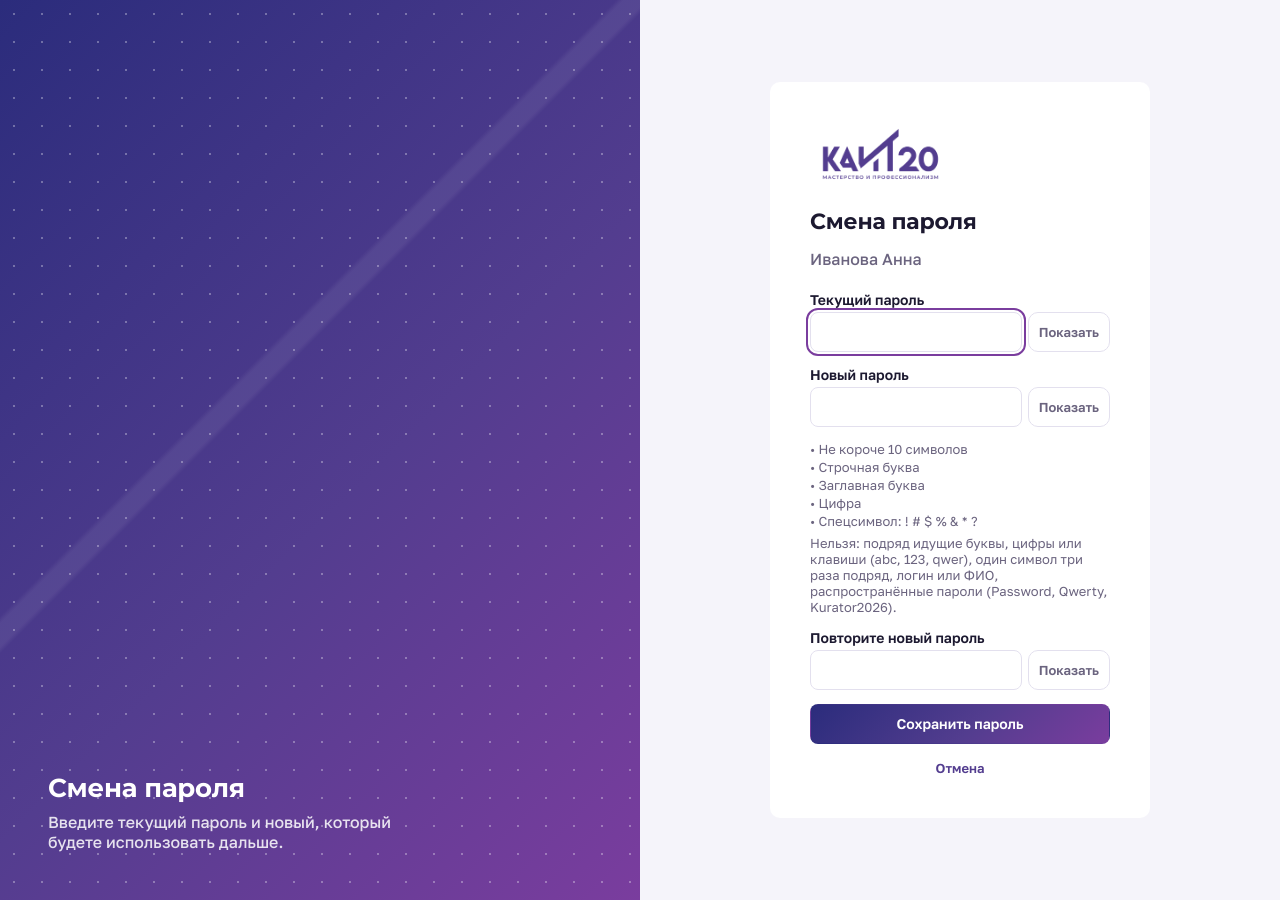
Test: ChangePasswordPage — обычная смена › пароли не совпадают — сообщение, на сервер не уходит
Type "OldPassword123" into the password field labelled "Текущий пароль Показать" at [916, 332], box 810,312 -> 1022,352
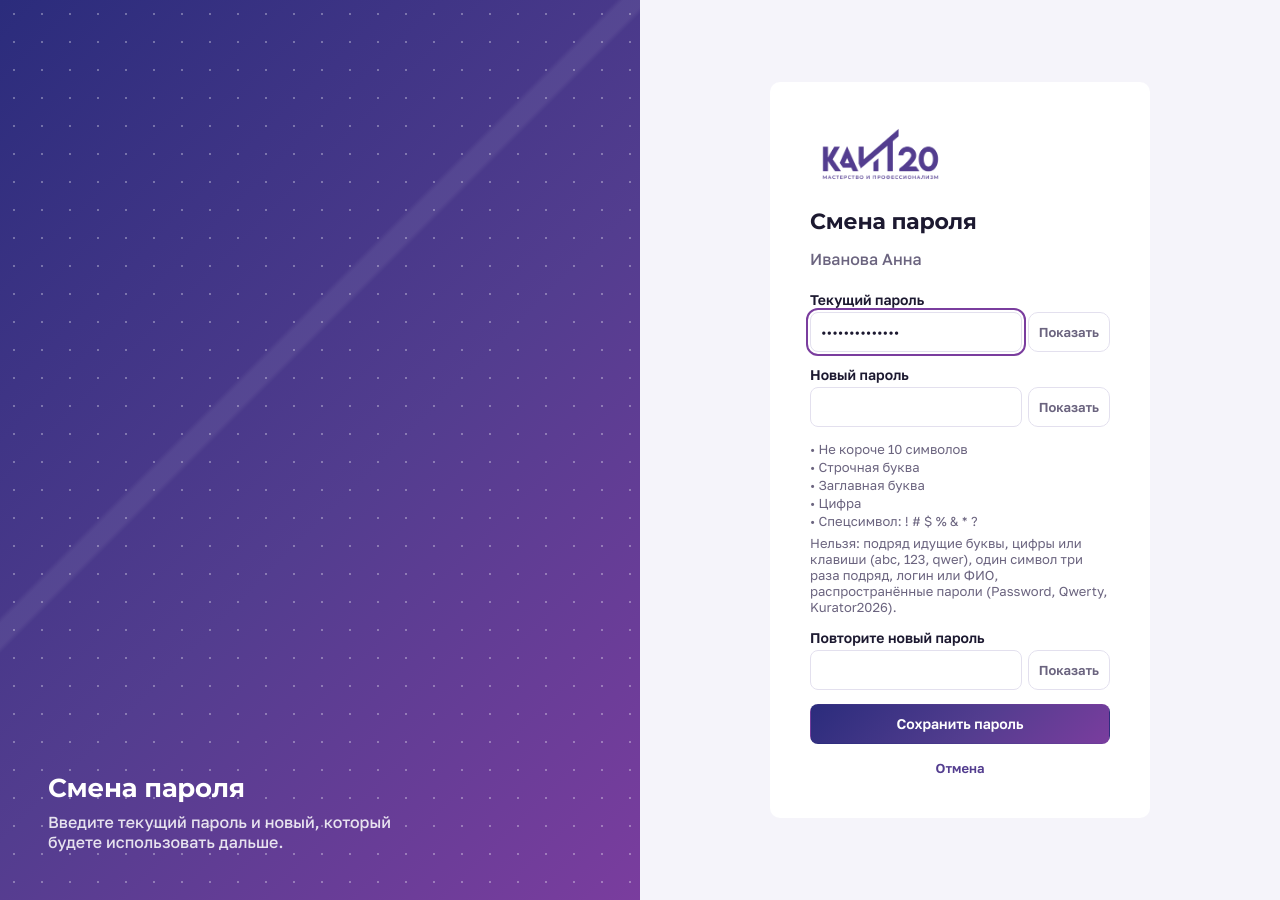
Type "NewPassword456!" into the password field labelled "Новый пароль Показать" at [916, 407], box 810,387 -> 1022,427
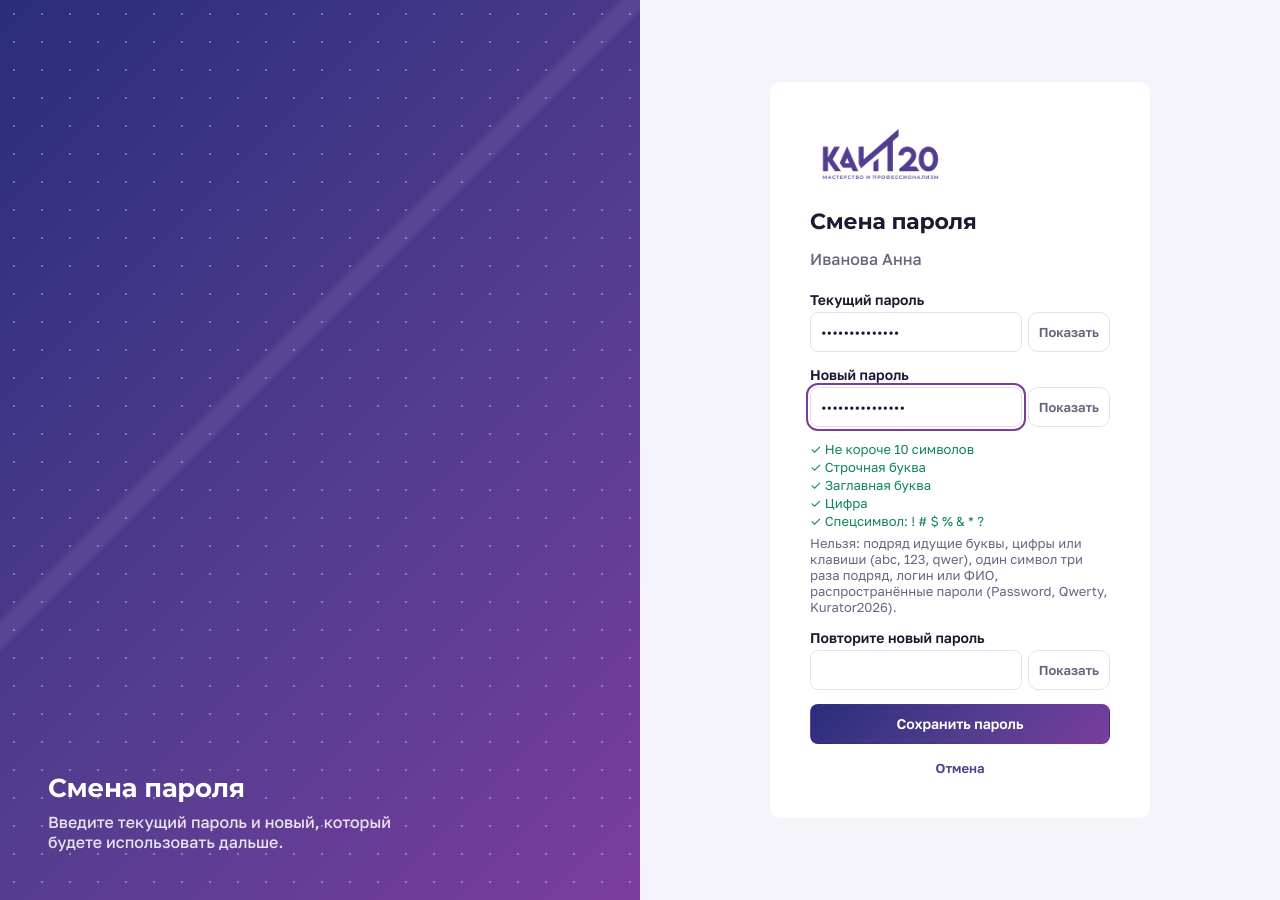
Type "Другой-пароль-789" into the password field labelled "Повторите новый пароль" at [916, 670], box 810,650 -> 1022,690
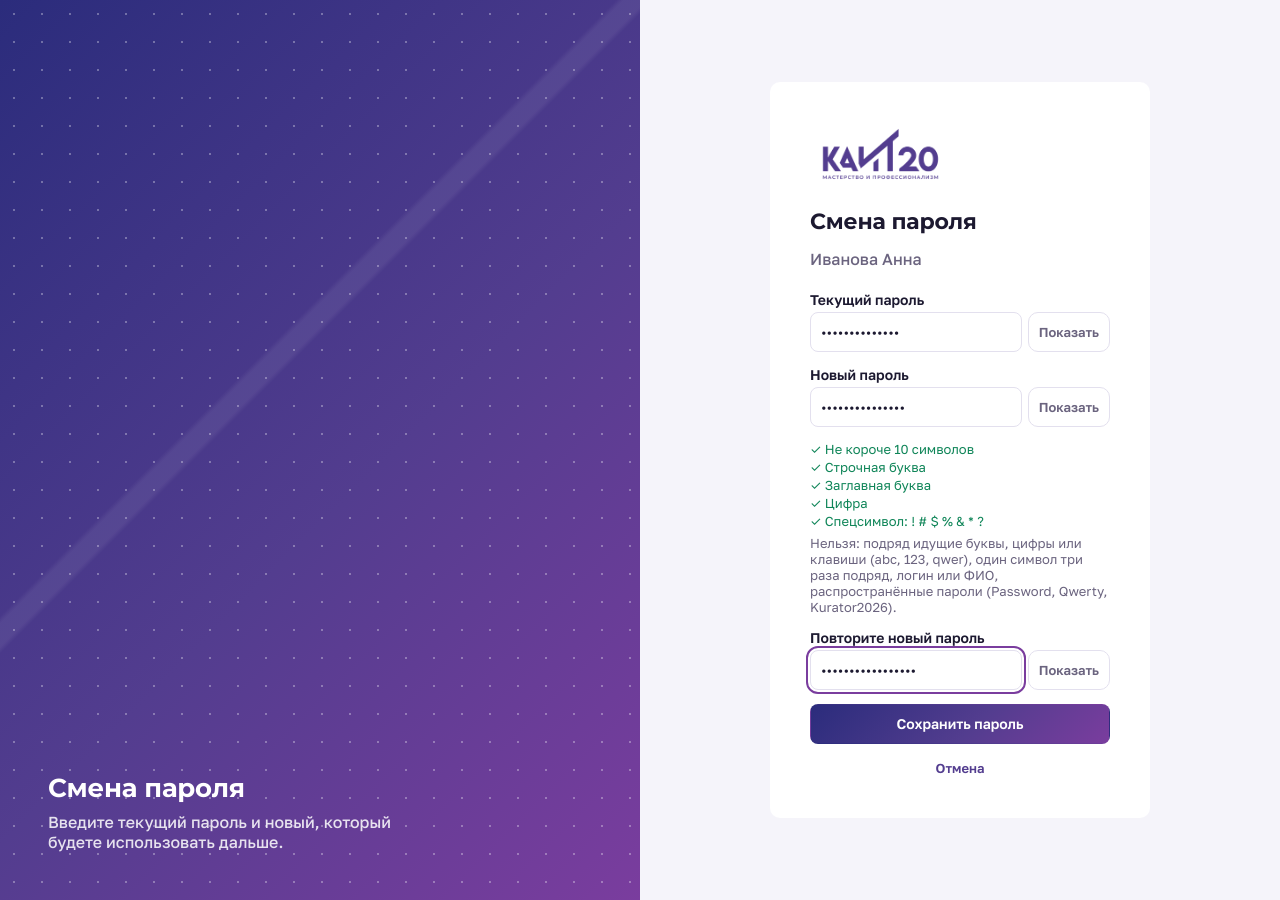
Click the button "Сохранить пароль" at [960, 724], box 810,704 -> 1110,744
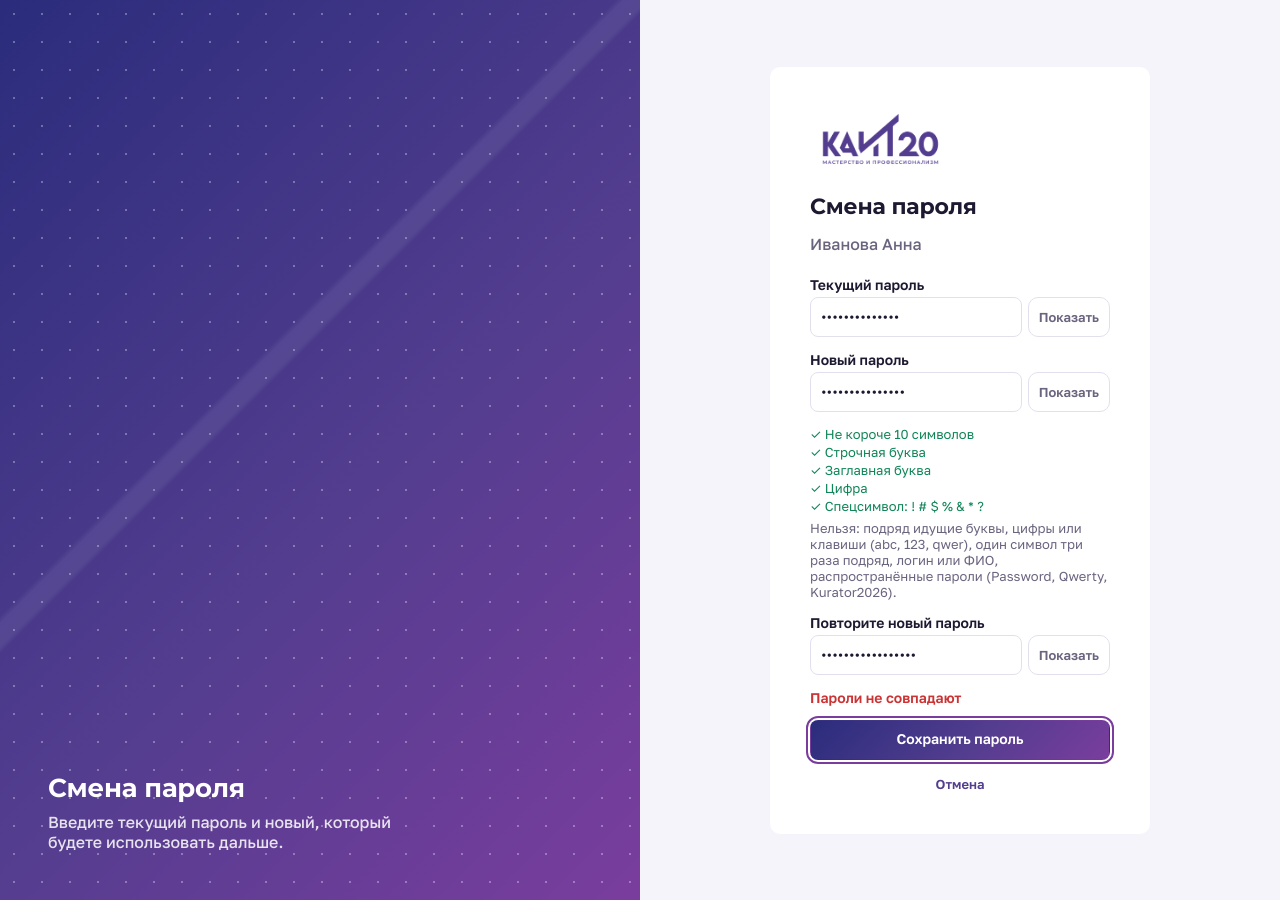
Result: the text "Пароли не совпадают" is shown at 810,688 -> 962,706
